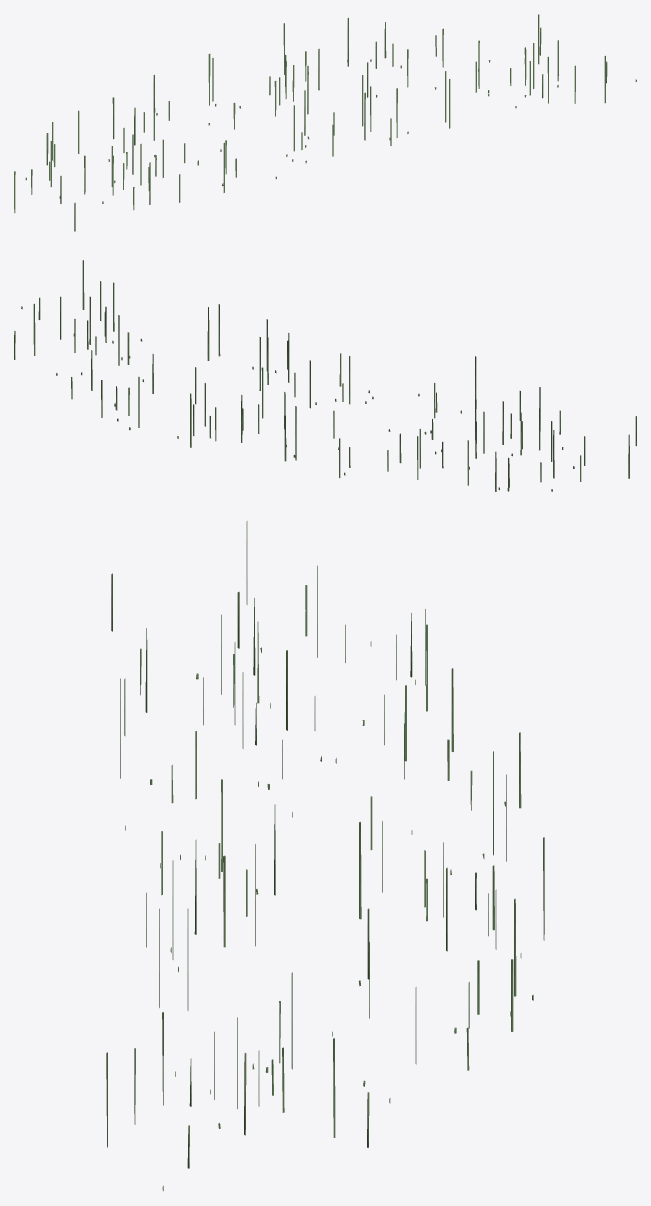
Rendered from xiyuan-vegetation-00-medium.glb.
The picture shows the model from 3 angles, top to bottom: view 1: azimuth 30°, elevation 25°; view 2: azimuth 150°, elevation 25°; view 3: azimuth 270°, elevation 25°; orthographic projection. The views are drawn at different scales.
Parts seen in each view (by area): view 1: lotus stems; view 2: lotus stems; view 3: lotus stems.
Part boxes in pixels (bbox=[...]): lotus stems: bbox=[14, 14, 636, 231]; lotus stems: bbox=[14, 260, 636, 491]; lotus stems: bbox=[106, 521, 544, 1191].
Size of the model in its own units: 12.34 by 1.02 by 3.89.
